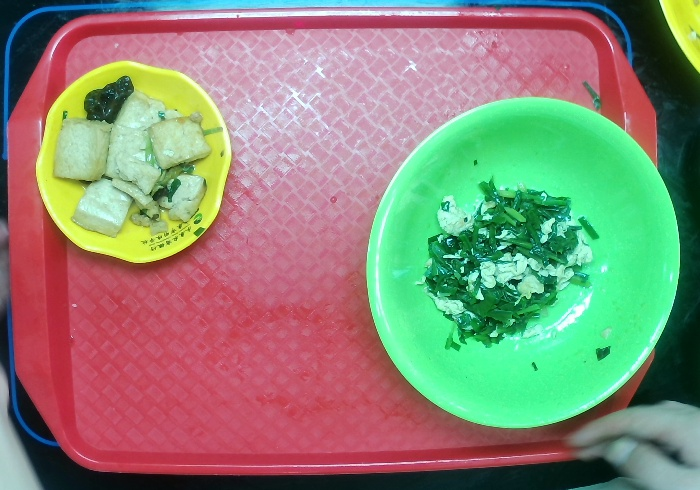YKMZ-Huang_Se_Ao_Bian_Wan: (33, 55, 246, 271)
YKMZ-Lv_Se_Tang_Wan: (363, 87, 687, 436)
